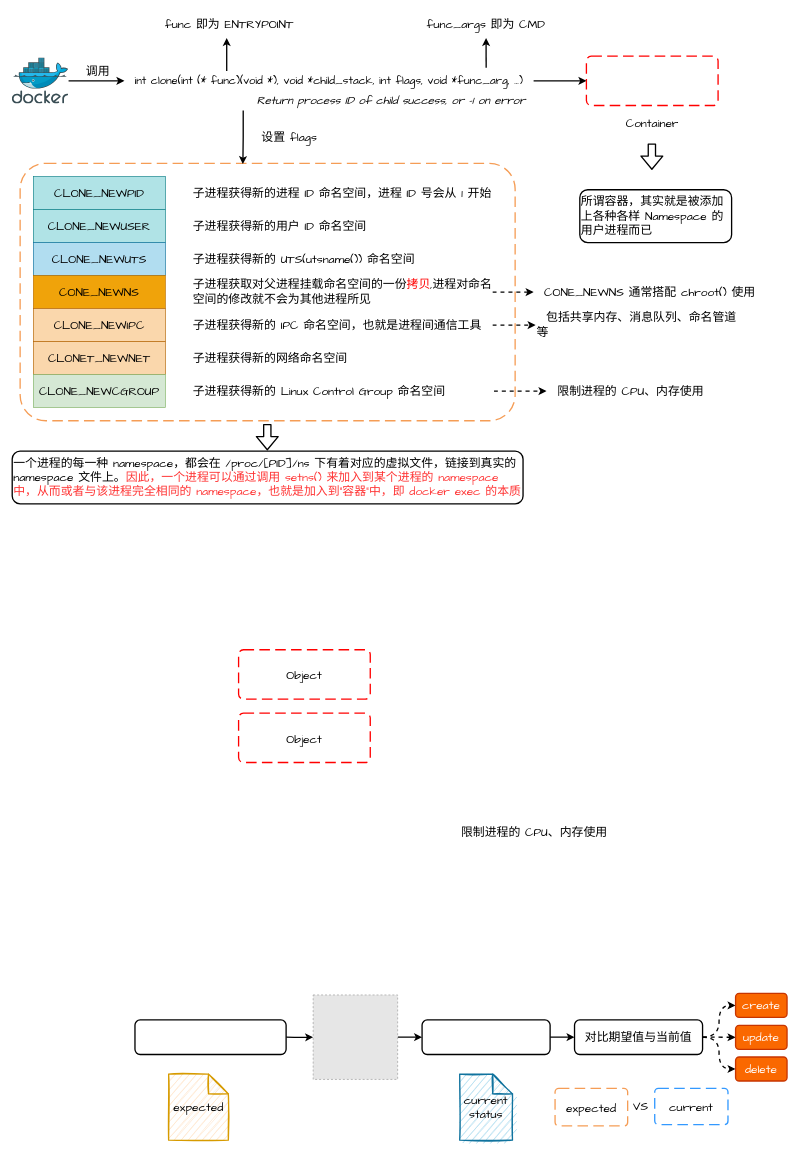
This 799x1152 diagram has some shape labels left out. Grey dashed boxes stand in for pictures. The box of each missing label's shape, as (x1, y1, x2, y2) in pixels:
Child Process: (585, 55, 718, 106)
kubectl apply -f xxx.yaml: (134, 1019, 286, 1055)
获取 Object 当前状态: (421, 1019, 550, 1055)
